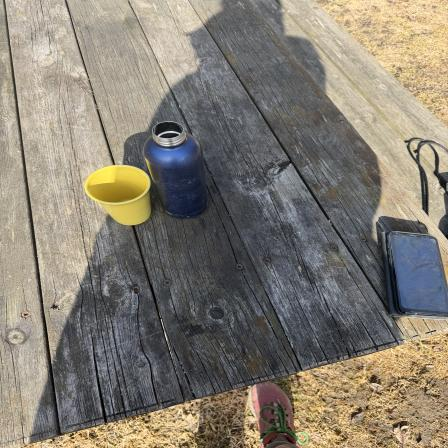blue_bottle: (144, 120, 216, 217)
phone: (380, 228, 448, 319)
yellow_cup: (83, 163, 153, 229)
